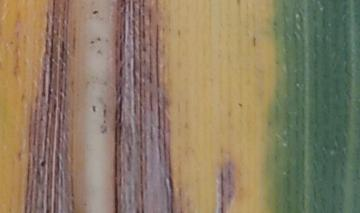tarspot: (59, 40, 67, 59), (251, 32, 257, 49), (175, 27, 182, 40), (234, 1, 243, 10), (39, 158, 48, 167), (118, 66, 124, 78), (90, 104, 97, 114), (236, 101, 244, 109), (140, 45, 148, 53), (90, 9, 99, 16), (95, 35, 102, 42), (118, 32, 123, 41), (89, 38, 95, 45)
